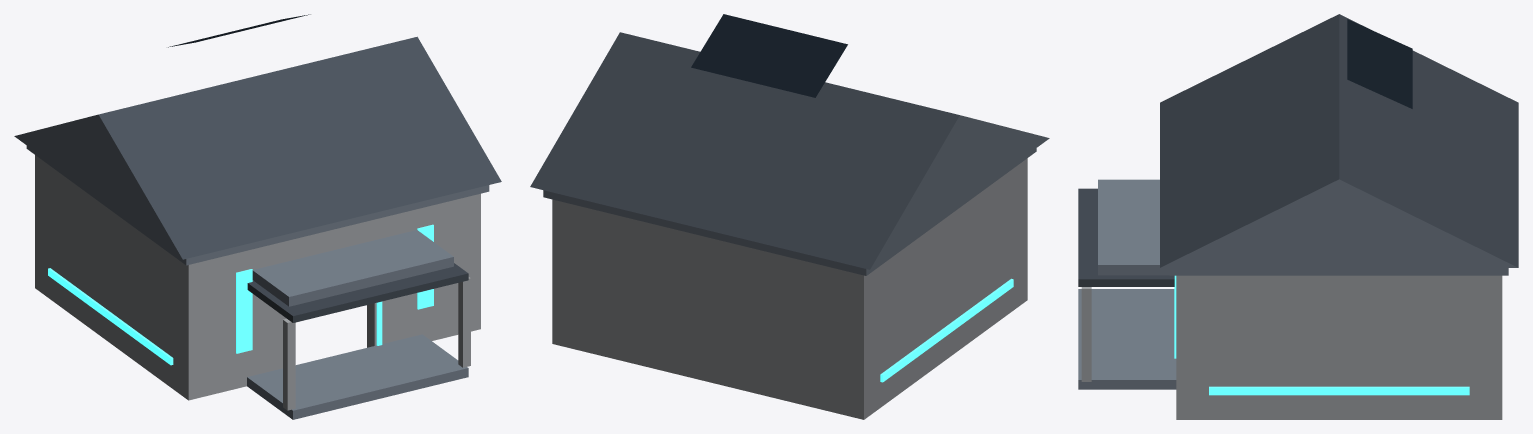
Rendered from shaddai_dist_suburb_home_a_v01.glb.
The picture shows the model from 3 angles, left to right: view 1: azimuth 30°, elevation 25°; view 2: azimuth 150°, elevation 25°; view 3: azimuth 270°, elevation 25°; orthographic projection. The views are drawn at different scales.
Parts seen in each view (by area): view 1: shaddai_dist_suburb_home_a; view 2: shaddai_dist_suburb_home_a; view 3: shaddai_dist_suburb_home_a.
Part boxes in pixels (box(x1,y1,x2,y2)): shaddai_dist_suburb_home_a: box(14, 14, 501, 419); shaddai_dist_suburb_home_a: box(530, 14, 1049, 419); shaddai_dist_suburb_home_a: box(1078, 14, 1518, 419).
Size of the model in its own units: 12 by 9.98 by 13.5.
